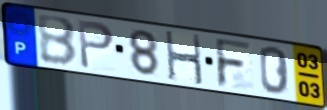0: (258, 44, 289, 96)
8: (125, 29, 161, 77)
B: (35, 14, 79, 68)
F: (213, 36, 254, 90)
H: (163, 29, 205, 88)
P: (76, 18, 117, 71)
